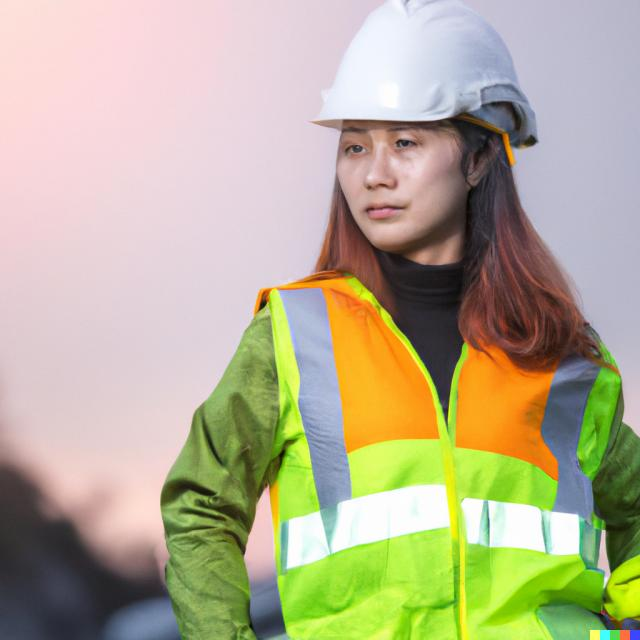Reflective-Jacket: (227, 245, 640, 640)
Safety-Helmet: (308, 3, 536, 153)
